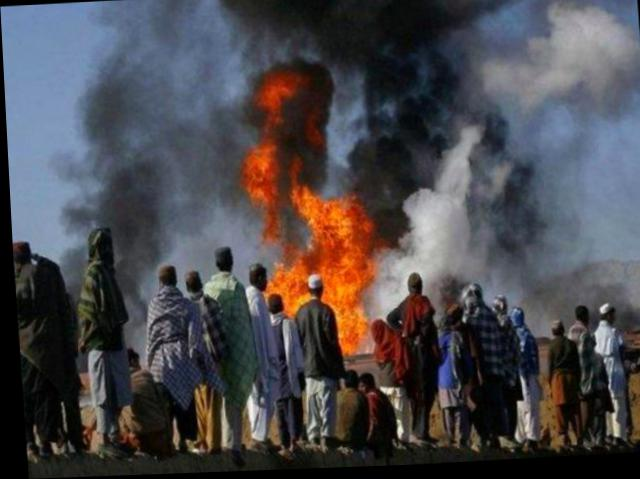fire: (327, 193, 374, 357), (243, 141, 276, 211), (276, 254, 306, 312), (256, 73, 297, 115), (303, 222, 329, 275), (290, 186, 326, 221)
